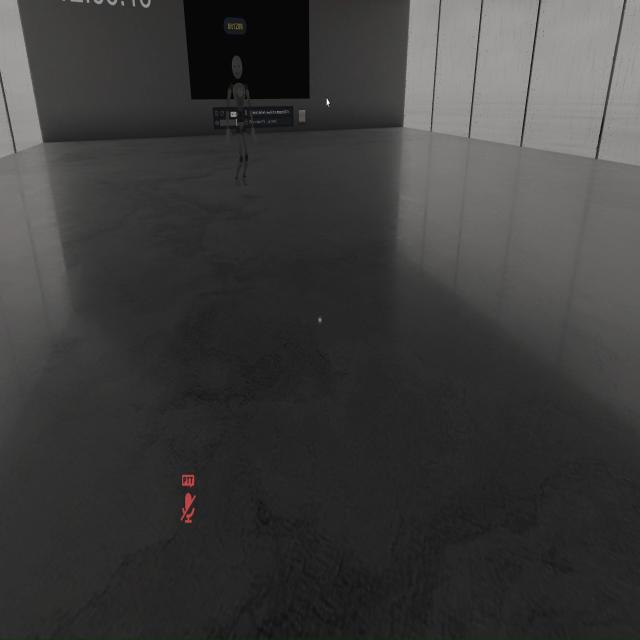human: (222, 52, 260, 197)
